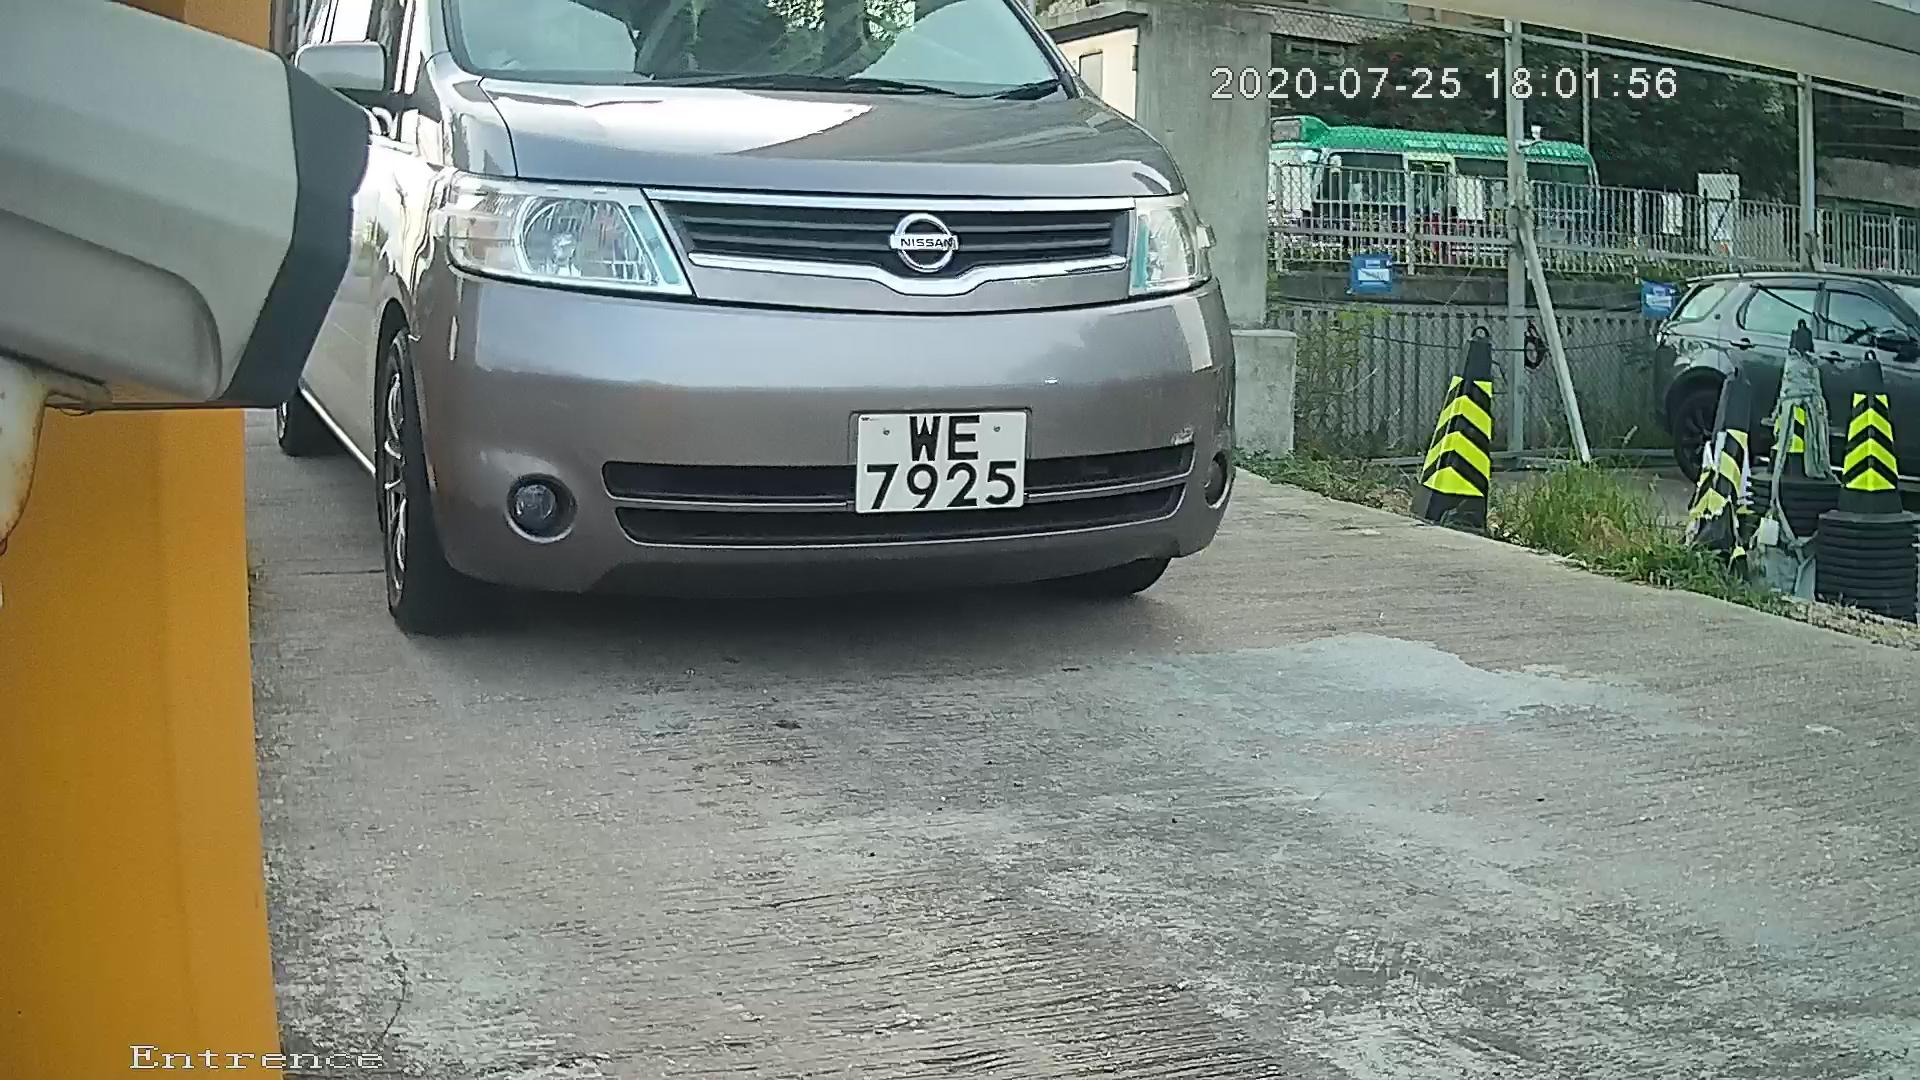Car: (155, 1, 1338, 661)
License Plate: (832, 401, 1046, 526)
